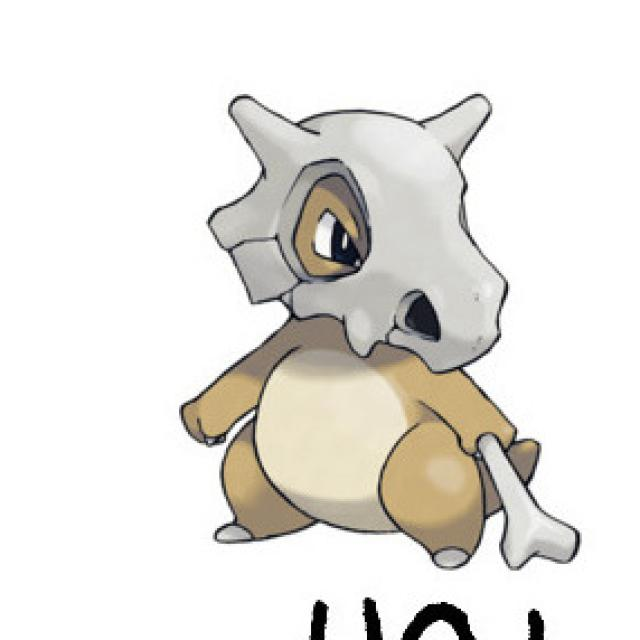Cubone: (180, 88, 580, 558)
